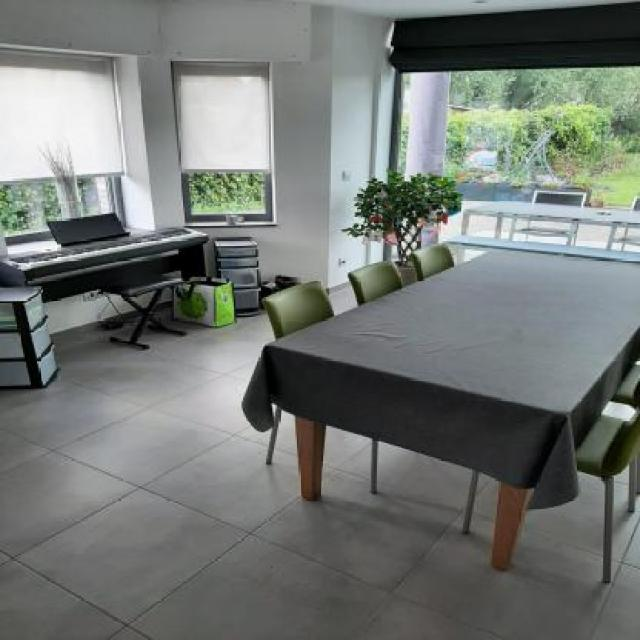Floor: (0, 306, 640, 640), (328, 286, 359, 316), (601, 401, 636, 420), (271, 402, 277, 420), (132, 320, 140, 326), (122, 318, 134, 322), (531, 488, 535, 496), (134, 316, 142, 320), (636, 360, 640, 365)
